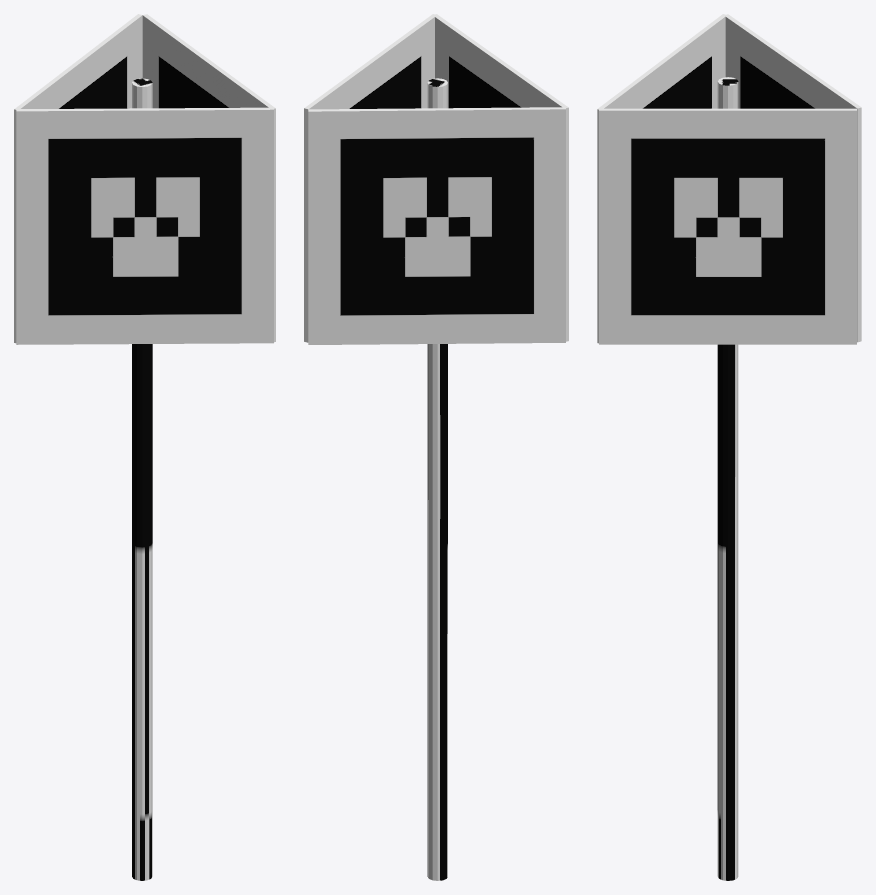
The model's file is Marker4.dae.
The picture shows the model from 3 angles, left to right: view 1: azimuth 30°, elevation 25°; view 2: azimuth 150°, elevation 25°; view 3: azimuth 270°, elevation 25°; orthographic projection.
Visible parts, largest first — view 1: Marker0; view 2: Marker0; view 3: Marker0.
Part boxes in pixels (x1,y1,x2,y2): Marker0: [14, 14, 275, 880]; Marker0: [304, 14, 568, 880]; Marker0: [597, 14, 861, 880].
Size of the model in its own units: 0.4433 by 0.5127 by 1.71.
